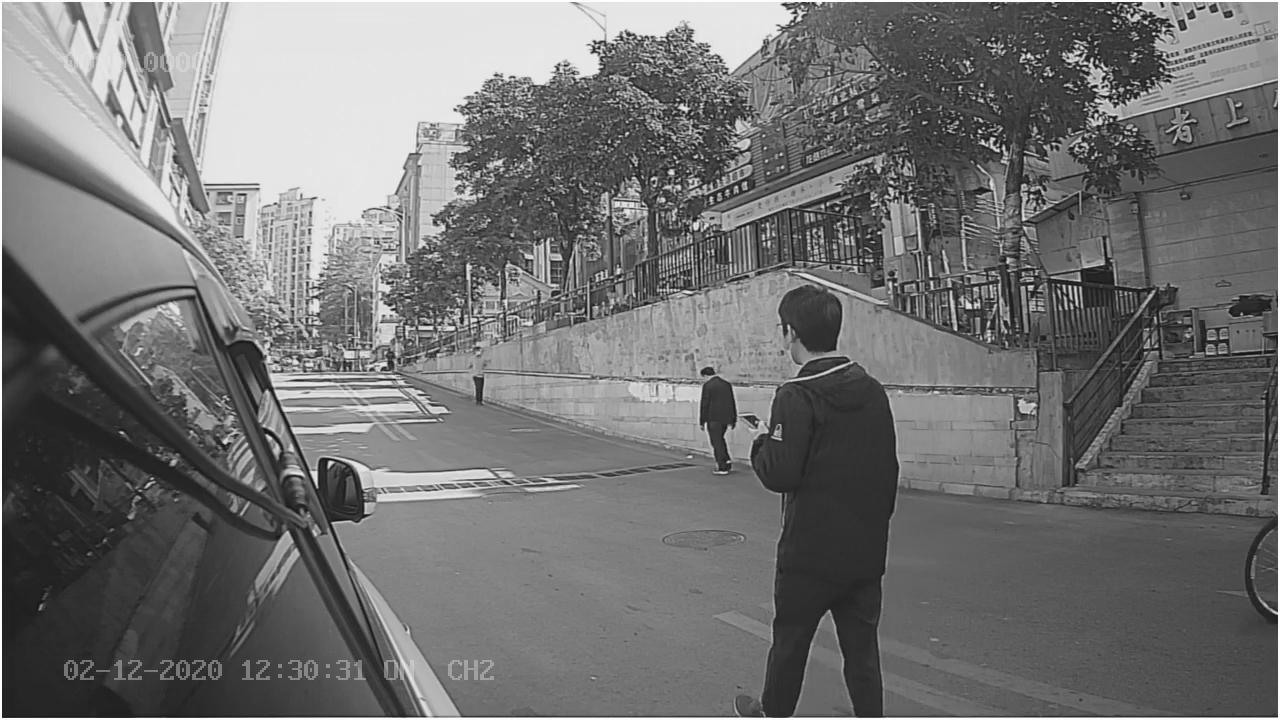person: (742, 275, 906, 489)
